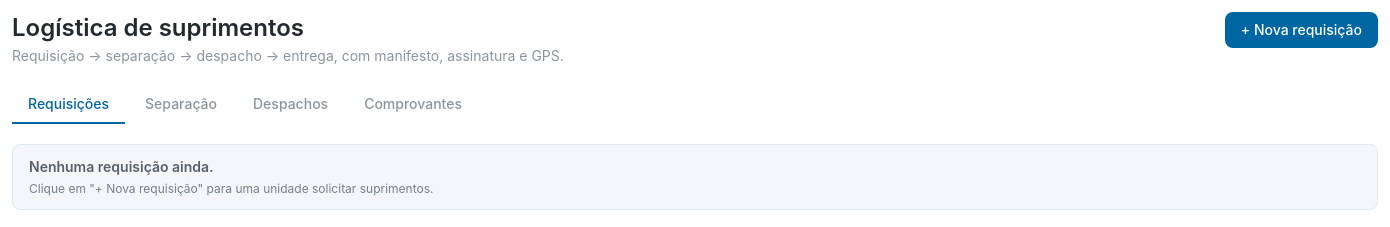
Test: LogisticaPage › renders the separação empty state
expect the text "Nenhuma requisição ainda." is shown: met, box [29,158,214,175]
Click the tab "Separação" at (181, 105), box [129,86,233,124]
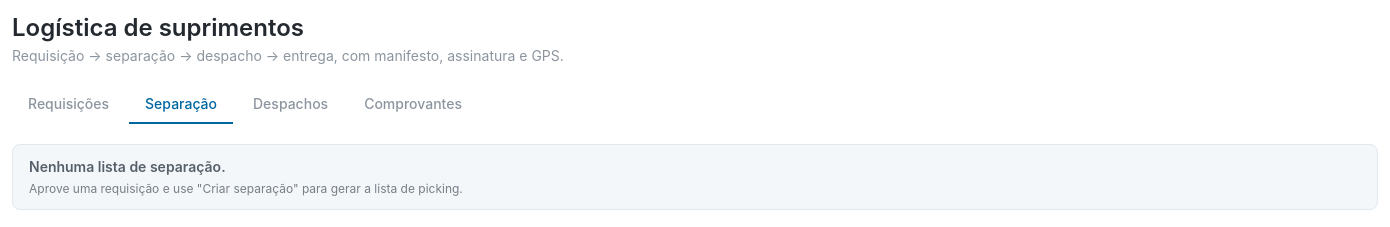
expect the text "Nenhuma lista de separação." is shown: met, box [29,158,226,175]
